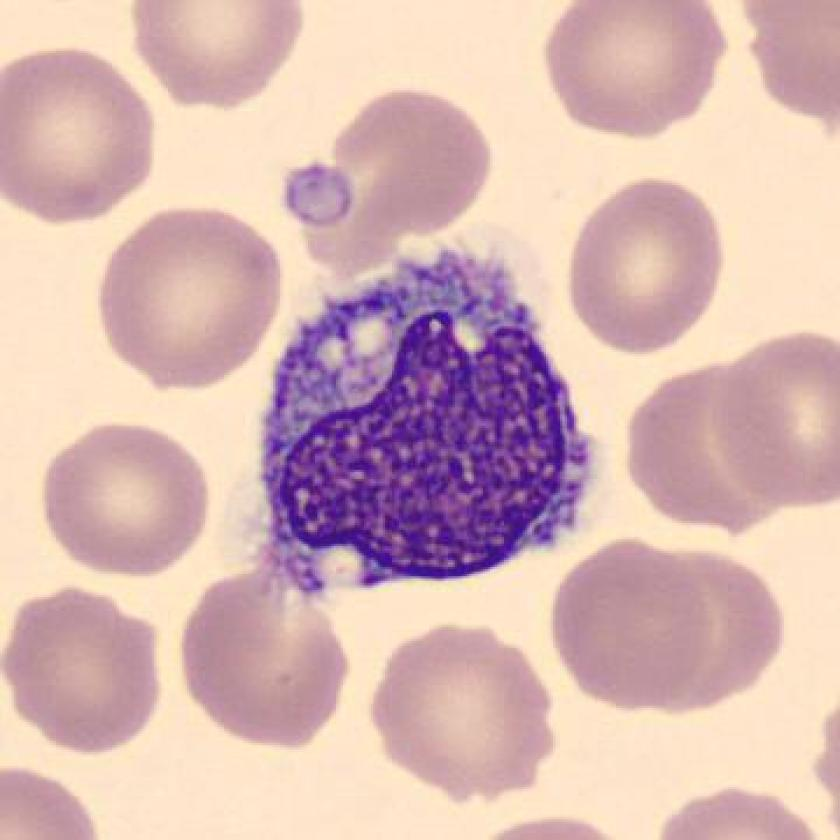monocyte: (232, 225, 626, 626)
